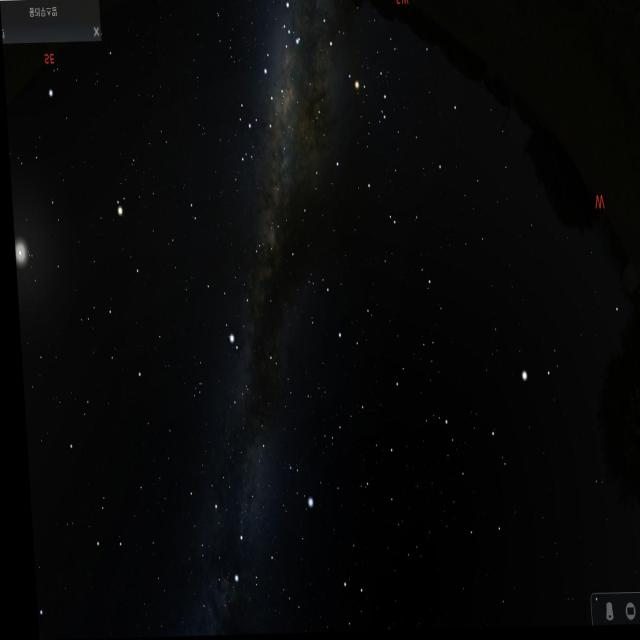aquila: (192, 230, 283, 389)
bootes: (427, 339, 560, 571)
cygnus: (202, 418, 274, 596)
lyra: (272, 452, 314, 514)
moon: (11, 223, 33, 281)
sagittarius: (220, 77, 277, 175)
scorpius: (274, 12, 398, 151)
